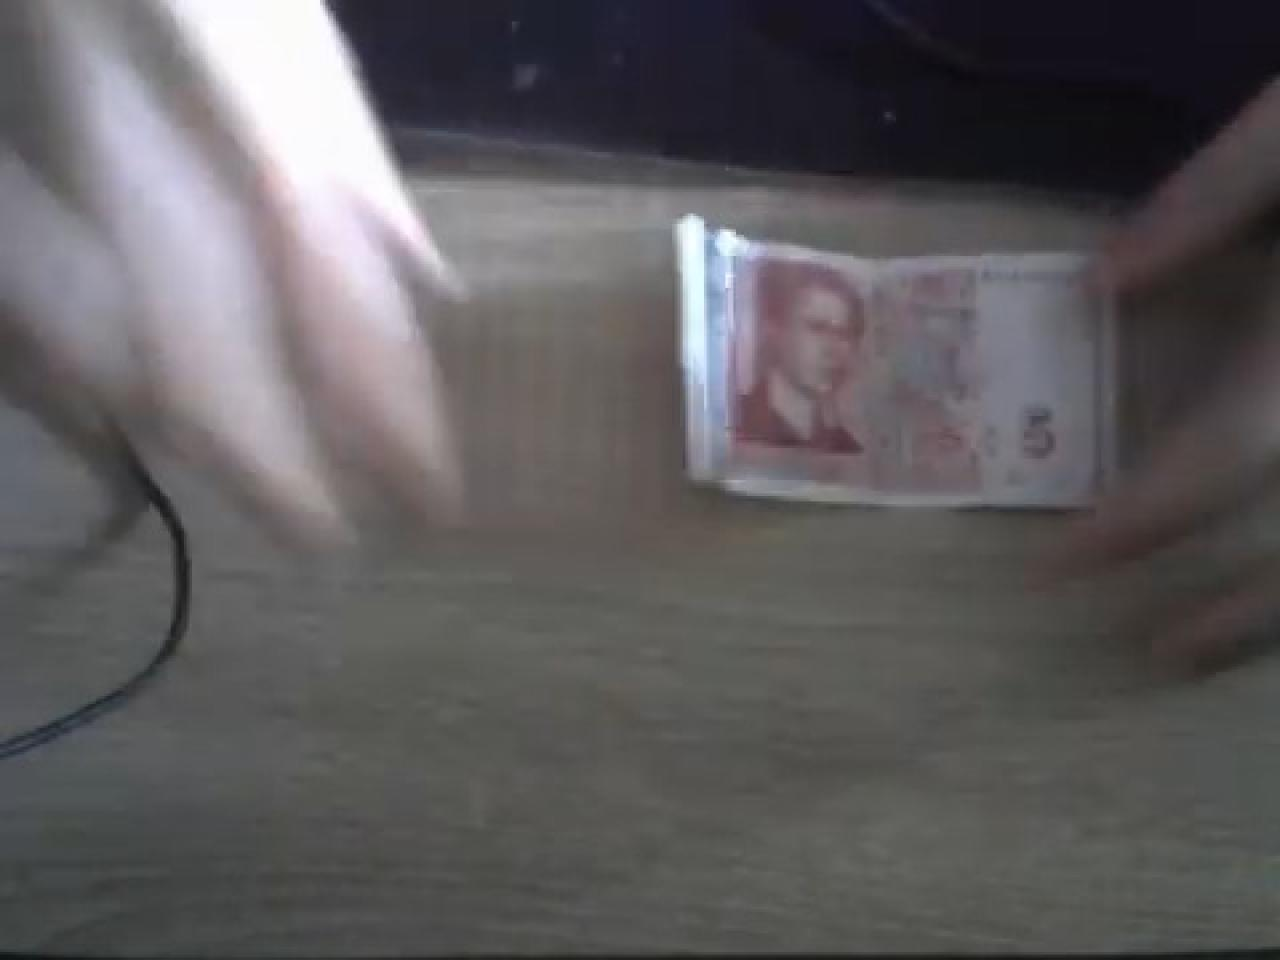5leva: (674, 219, 1118, 514)
